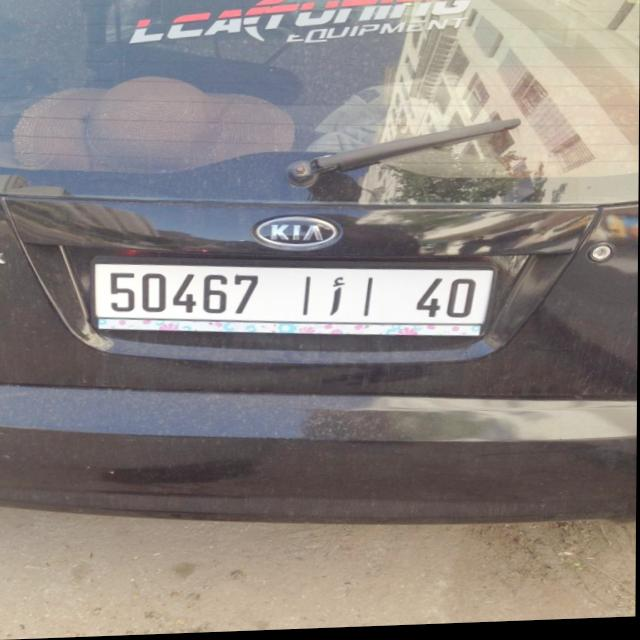License-Plate: (96, 264, 493, 327)
